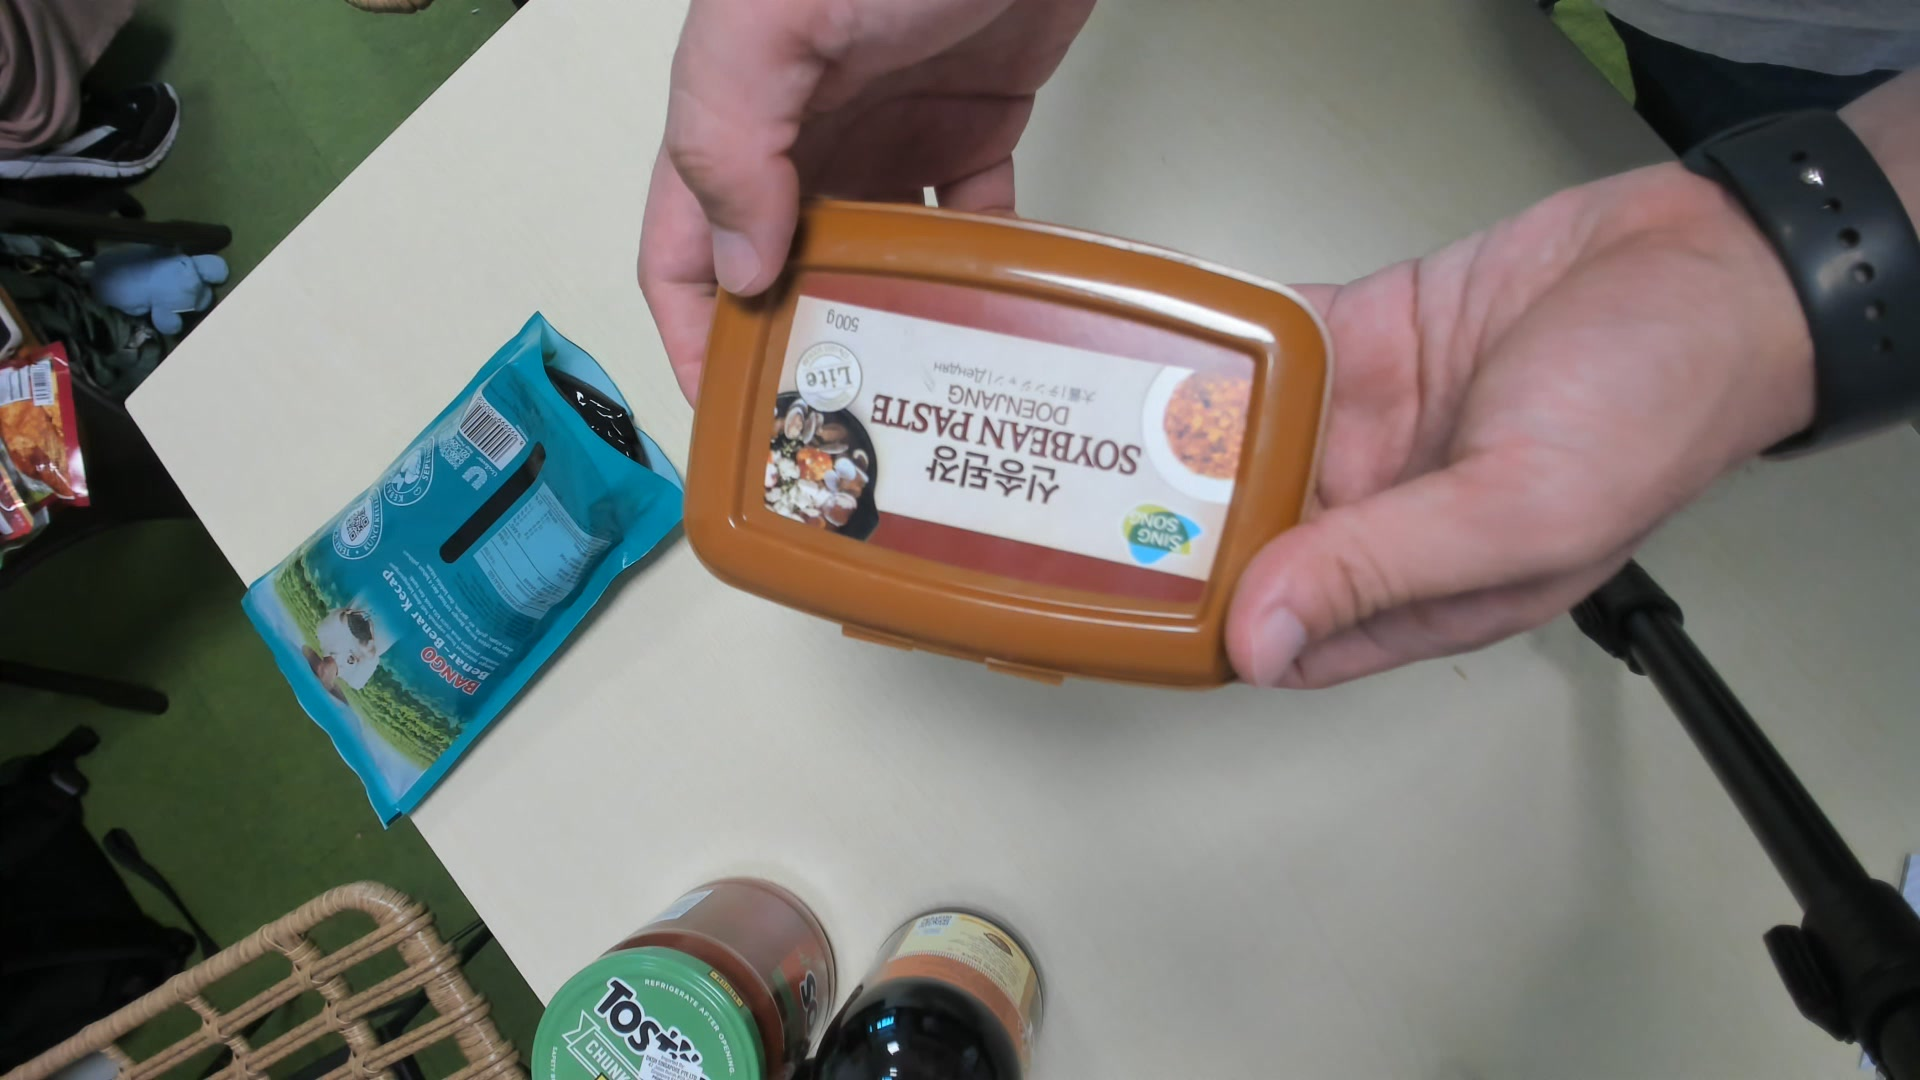OtherSauceDressing_500-599g_NonHalal_NonHealthy: (690, 202, 1328, 695)
